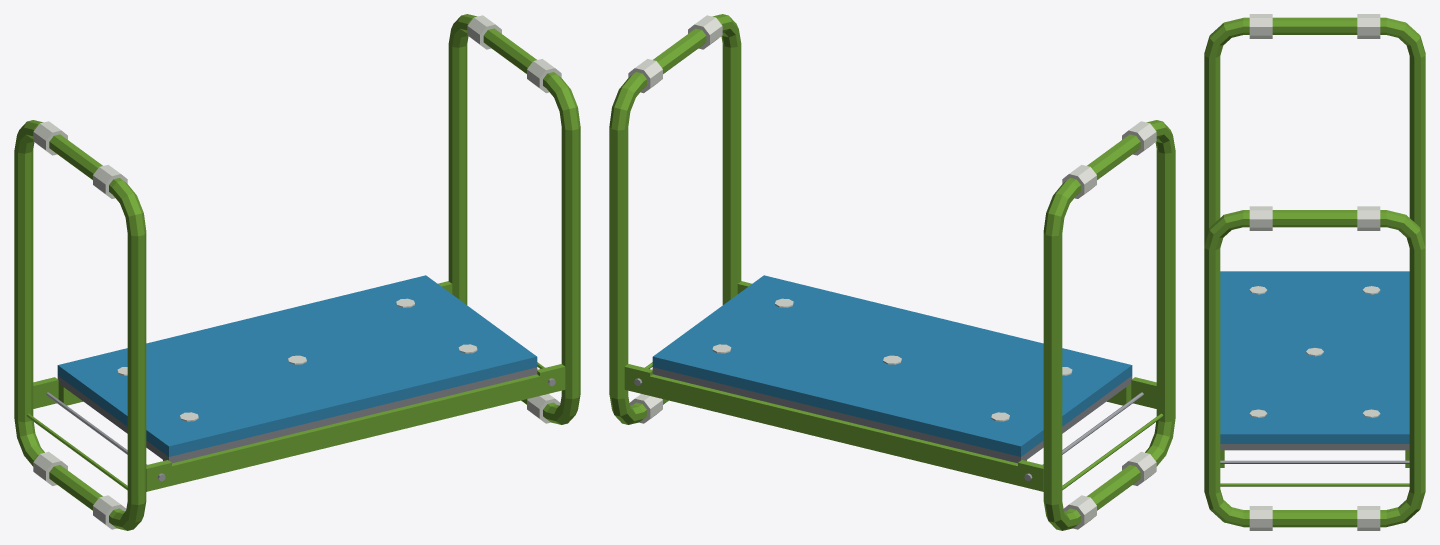
3 views of the same model, side by side, from view 1: azimuth 30°, elevation 25°; view 2: azimuth 150°, elevation 25°; view 3: azimuth 270°, elevation 25° (orthographic). The views are drawn at different scales.
Visible parts, largest first — view 1: Continuous_foam_kneeling_pad, Left_closed_tube_frame_with_integral_protectors, Right_closed_tube_frame_with_integral_protectors, Front_longitudinal_support_rail, Perforated_reversible_seat_pan, Right_Front_hinge_plate, Left_Front_hinge_plate, Left_Back_hinge_plate; view 2: Continuous_foam_kneeling_pad, Left_closed_tube_frame_with_integral_protectors, Right_closed_tube_frame_with_integral_protectors, Back_longitudinal_support_rail, Perforated_reversible_seat_pan, Right_Back_hinge_plate, Left_Back_hinge_plate, Left_Front_hinge_plate; view 3: Continuous_foam_kneeling_pad, Right_closed_tube_frame_with_integral_protectors, Left_closed_tube_frame_with_integral_protectors, Perforated_reversible_seat_pan, Right_silver_locking_bar, Right_lower_transverse_brace.
Part boxes in pixels (box(x1,y1,x2,y2)): Continuous_foam_kneeling_pad: box(57, 275, 537, 456); Left_closed_tube_frame_with_integral_protectors: box(14, 120, 146, 530); Right_closed_tube_frame_with_integral_protectors: box(448, 14, 580, 424); Front_longitudinal_support_rail: box(163, 374, 539, 485); Perforated_reversible_seat_pan: box(57, 367, 537, 463); Right_Front_hinge_plate: box(537, 364, 565, 395); Left_Front_hinge_plate: box(146, 460, 171, 491); Left_Back_hinge_plate: box(33, 377, 58, 408); Continuous_foam_kneeling_pad: box(652, 275, 1132, 456); Left_closed_tube_frame_with_integral_protectors: box(1043, 120, 1175, 530); Right_closed_tube_frame_with_integral_protectors: box(609, 14, 741, 424); Back_longitudinal_support_rail: box(650, 374, 1026, 485); Perforated_reversible_seat_pan: box(652, 367, 1132, 463); Right_Back_hinge_plate: box(624, 364, 652, 395); Left_Back_hinge_plate: box(1018, 460, 1043, 491); Left_Front_hinge_plate: box(1131, 377, 1156, 408); Continuous_foam_kneeling_pad: box(1220, 271, 1409, 443); Right_closed_tube_frame_with_integral_protectors: box(1204, 206, 1425, 530); Left_closed_tube_frame_with_integral_protectors: box(1204, 14, 1425, 244); Perforated_reversible_seat_pan: box(1220, 444, 1409, 450); Right_silver_locking_bar: box(1220, 460, 1409, 463); Right_lower_transverse_brace: box(1220, 483, 1409, 486).
Size of the model in its own units: 0.54 by 0.4 by 0.25.
